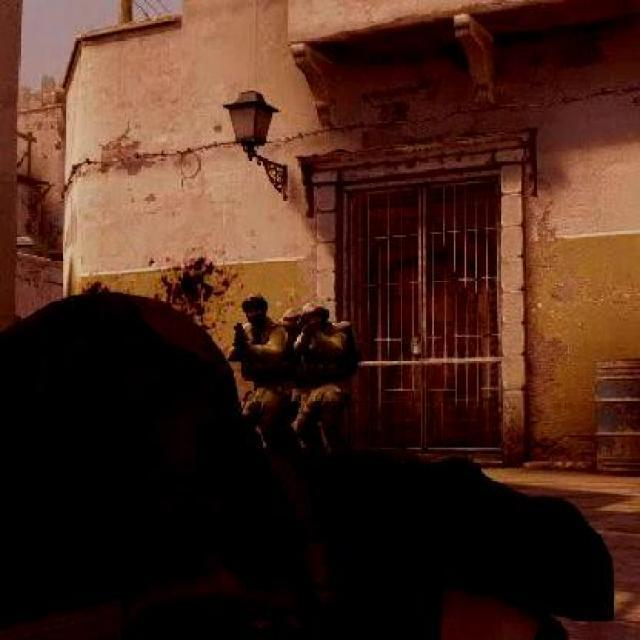CT: (292, 294, 356, 457), (230, 286, 292, 449)
CT_HEAD: (301, 296, 334, 336), (238, 286, 271, 325)
